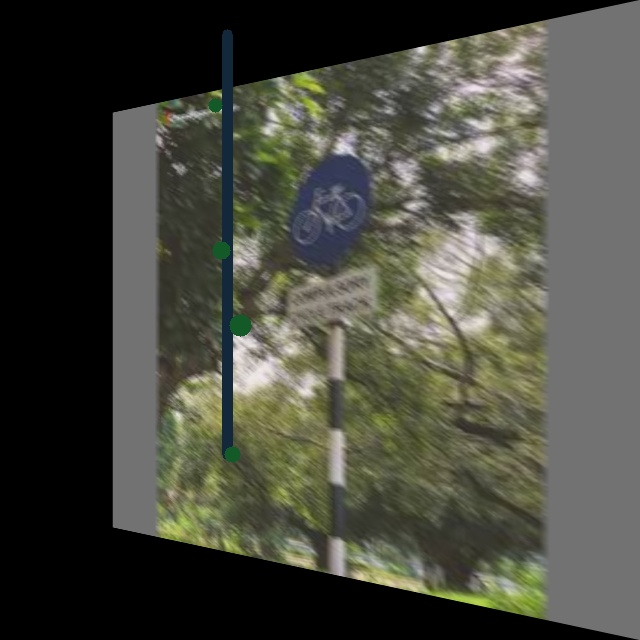Compulsory_Cycle_Track: (284, 148, 382, 265)
